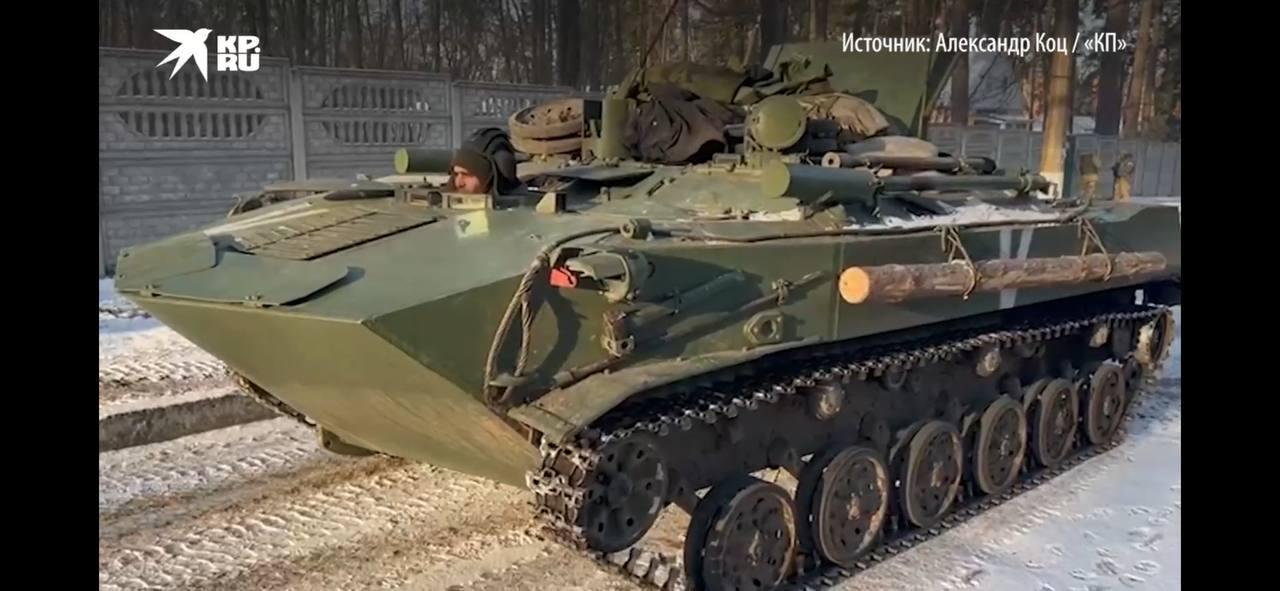person: (1080, 146, 1106, 208), (1116, 150, 1139, 202)
tank: (117, 67, 1193, 584)
